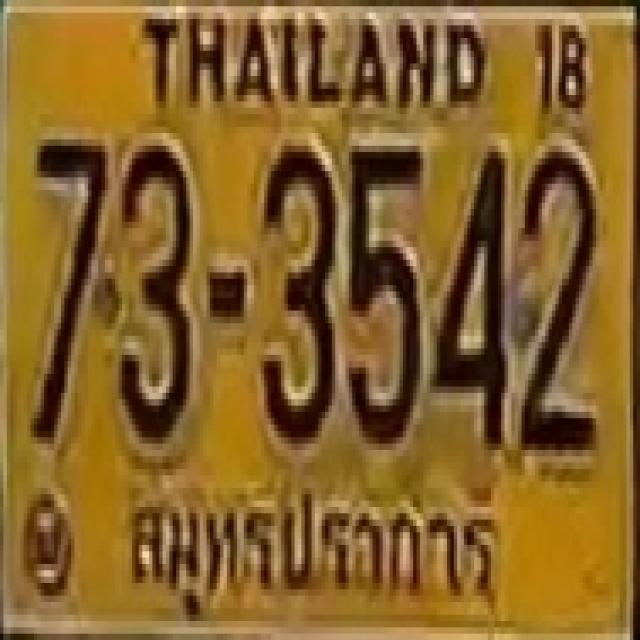2: (516, 142, 594, 446)
3: (115, 140, 190, 438), (261, 140, 332, 438)
4: (434, 146, 504, 444)
5: (345, 140, 420, 438)
7: (30, 133, 105, 437)
SPK: (122, 472, 507, 623)
